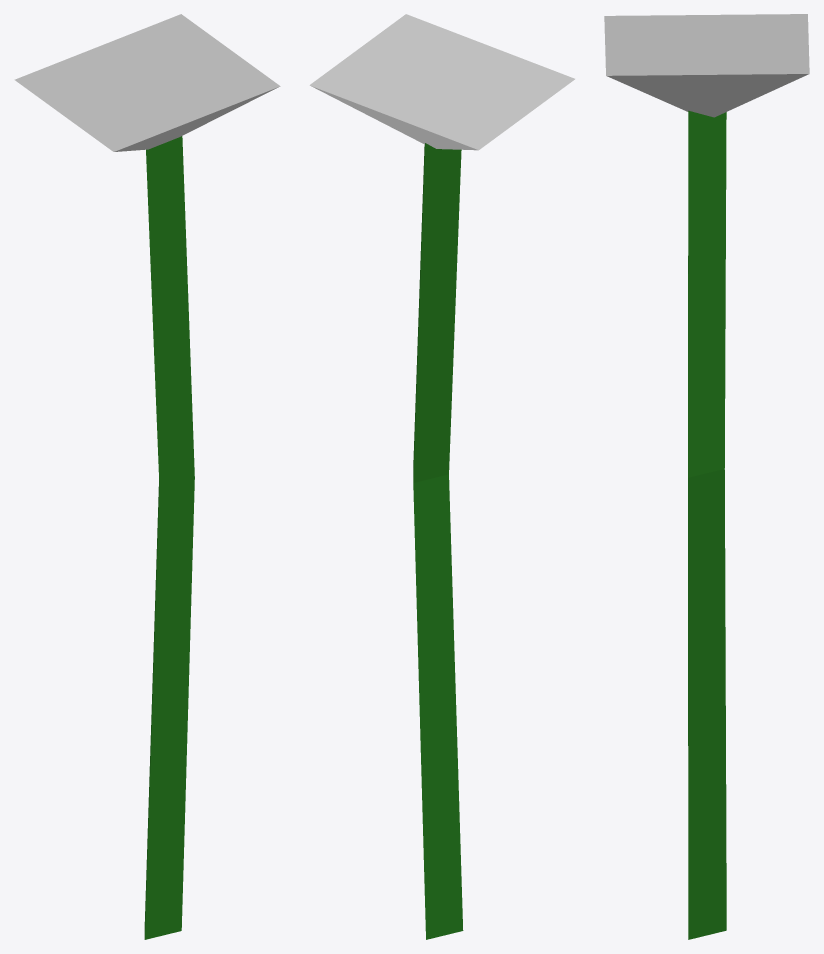
File: Flower_dandelion_2_vc.fbx
3 renders of one model, left to right at view 1: azimuth 30°, elevation 25°; view 2: azimuth 150°, elevation 25°; view 3: azimuth 270°, elevation 25°, orthographic. The views are drawn at different scales.
Visible parts, largest first — view 1: Flower_dandelion_2_vc; view 2: Flower_dandelion_2_vc; view 3: Flower_dandelion_2_vc.
Part boxes in pixels (<box>): Flower_dandelion_2_vc: <box>14,14,280,939</box>; Flower_dandelion_2_vc: <box>309,14,574,939</box>; Flower_dandelion_2_vc: <box>604,14,809,939</box>.
Size of the model in its own units: 0.0769 by 0.3733 by 0.0776.
